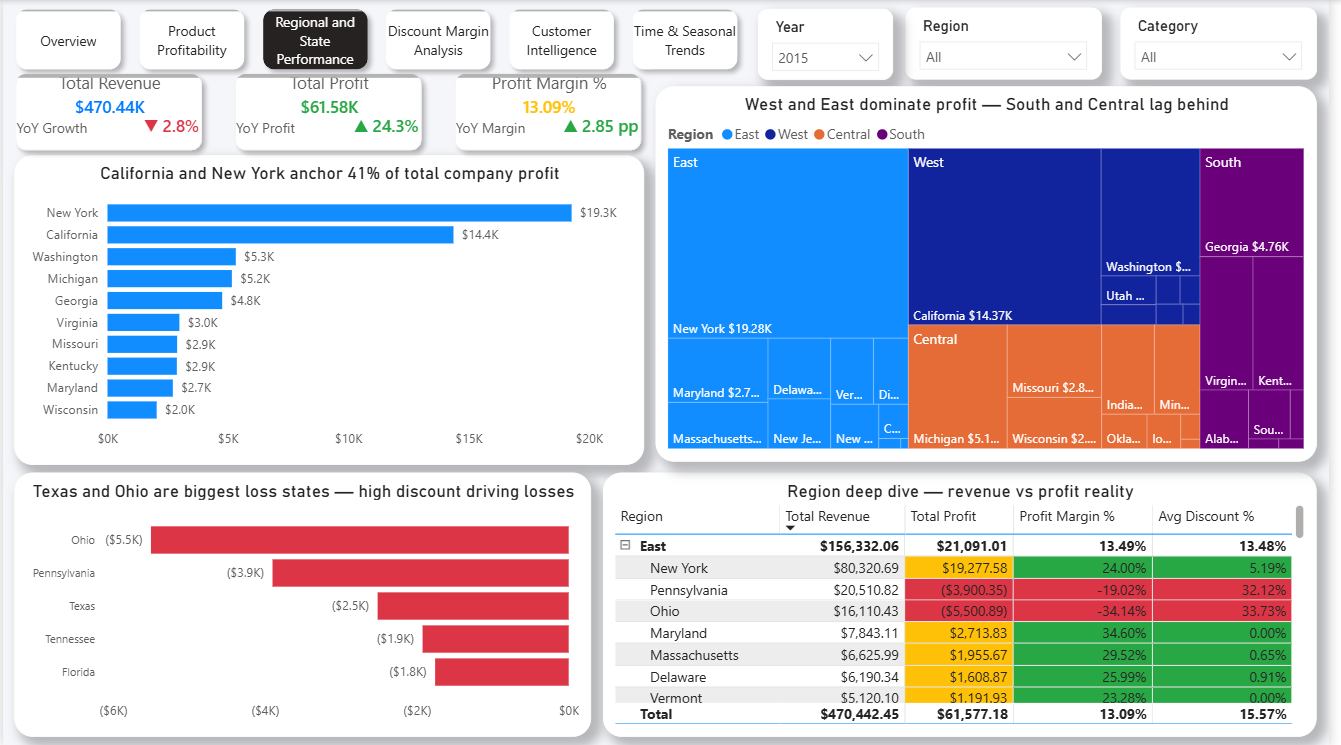

The page's visual inventory and layout, read from the dashboard file:
{"tool":"powerbi","page":{"name":"Regional and State Performance","canvas":[1280,720],"ordinal":2},"visuals":[{"type":"clusteredBarChart","title":"California and New York anchor 41% of total company profit","fields":{"Category":["superstore_clean.State"],"Y":["Measures (2).Total Profit"]},"box":[11,149.6,607.9,299.1],"z":0},{"type":"slicer","fields":{"Values":["superstore_clean.Region"]},"box":[871.4,6.9,189.4,70],"z":1000},{"type":"slicer","title":"YE","fields":{"Values":["superstore_clean.Order_Year"]},"box":[728.6,8.2,130.4,68.6],"z":2000},{"type":"pageNavigator","box":[4.1,0,716.3,76.8],"z":3000},{"type":"cardVisual","fields":{"Data":["Measures (2).Total Revenue","Measures (2).Total Profit","Measures (2).Profit Margin %"]},"box":[0,59,629.8,98.8],"z":4000},{"type":"clusteredBarChart","title":"Texas and Ohio are biggest loss states — high discount driving losses","fields":{"Category":["superstore_clean.State"],"Y":["Measures (2).Total Profit"]},"box":[11,455.6,557.1,255.2],"z":5000},{"type":"pivotTable","title":"Region deep dive — revenue vs profit reality","fields":{"Rows":["superstore_clean.Region","superstore_clean.State"],"Values":["Measures (2).Total Revenue","Measures (2).Total Profit","Measures (2).Profit Margin %","Measures (2).Avg Discount %"]},"box":[579.1,455.6,688.9,255.2],"z":6000},{"type":"slicer","fields":{"Values":["superstore_clean.Category"]},"box":[1078.6,6.9,189.4,70],"z":7000},{"type":"treemap","title":"West and East dominate profit — South and Central lag behind","fields":{"Details":["superstore_clean.State"],"Group":["superstore_clean.Region"],"Values":["Measures (2).Total Profit"]},"box":[629.8,83.7,638.1,362.3],"z":8000}]}

Visuals, with their boxes in screenshot pixels (x1, y1, x2, y2), scaled from the page's 1280x720 canvas onto the 1341x745 screenshot:
"California and New York anchor 41% of total company profit" clusteredBarChart: BBox(12, 155, 648, 464)
slicer - superstore_clean.Region: BBox(913, 7, 1111, 80)
"YE" slicer: BBox(763, 8, 900, 79)
pageNavigator: BBox(4, 0, 755, 79)
cardVisual - Measures (2).Total Revenue x Measures (2).Total Profit: BBox(0, 61, 660, 163)
"Texas and Ohio are biggest loss states — high discount driving losses" clusteredBarChart: BBox(12, 471, 595, 735)
"Region deep dive — revenue vs profit reality" pivotTable: BBox(607, 471, 1328, 735)
slicer - superstore_clean.Category: BBox(1130, 7, 1328, 80)
"West and East dominate profit — South and Central lag behind" treemap: BBox(660, 87, 1328, 461)
